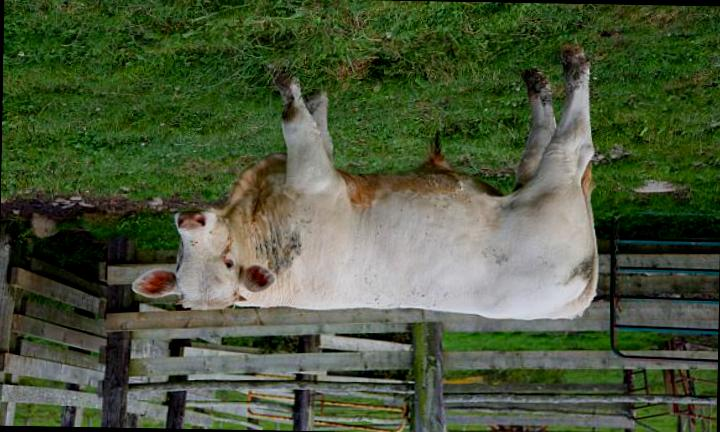Charolais: (131, 47, 597, 320)
